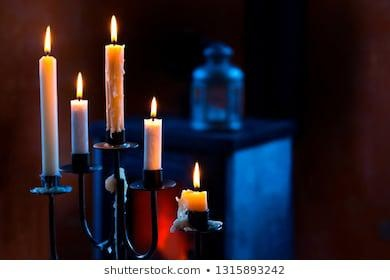fire: (39, 22, 56, 56), (189, 158, 203, 189), (72, 69, 85, 100), (107, 12, 120, 42), (148, 93, 159, 117)
